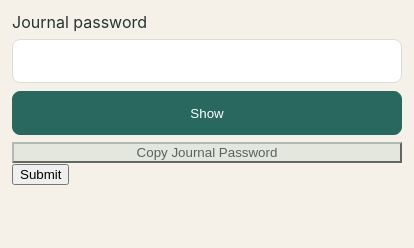
Scenario: Copy Journal Password uses the Clipboard API only after its explicit button gesture
In the password field labelled "Journal password": (207,61) [12,39,402,83], type "clipboard-only Journal password 8!"
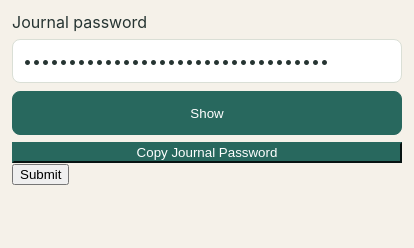
Click the button "Copy Journal Password": (207,152) [12,142,402,163]
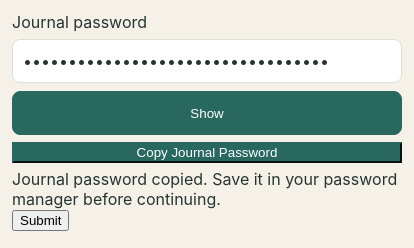
Now the message shows "Journal password copied", box [12,169,397,209]
